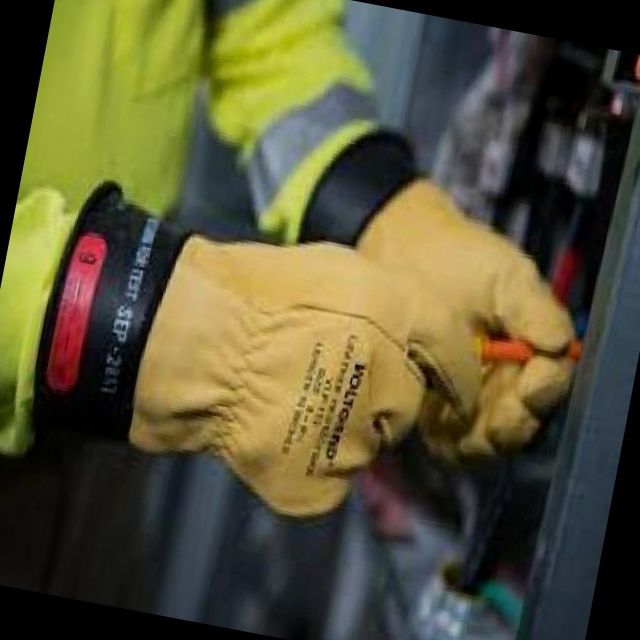gloves: (44, 223, 491, 522), (294, 120, 579, 420)
